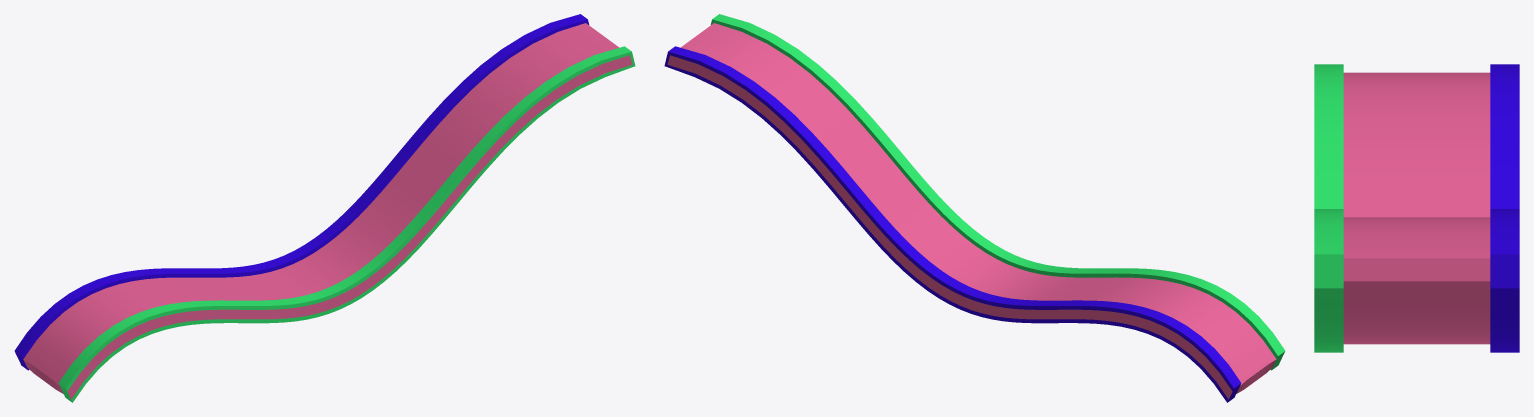
File: only-slides.fbx
3 views of the same model, side by side, from view 1: azimuth 30°, elevation 25°; view 2: azimuth 150°, elevation 25°; view 3: azimuth 270°, elevation 25° (orthographic). The views are drawn at different scales.
Visible parts, largest first — view 1: NurbsPath.003; view 2: NurbsPath.003; view 3: NurbsPath.003.
Part boxes in pixels (<box>): NurbsPath.003: <box>14,14,635,402</box>; NurbsPath.003: <box>664,14,1285,402</box>; NurbsPath.003: <box>1314,64,1519,352</box>.
Bounding box in the file's own units: 197 × 70.85 × 30.7.
